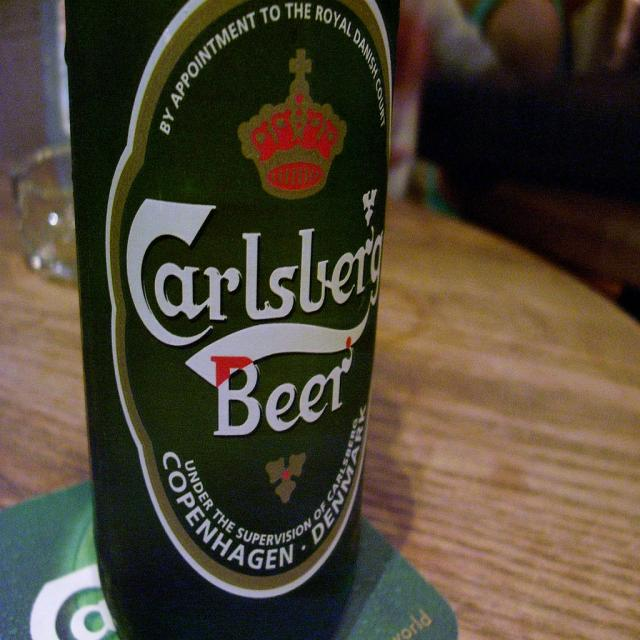carlsberg: (107, 2, 396, 597)
